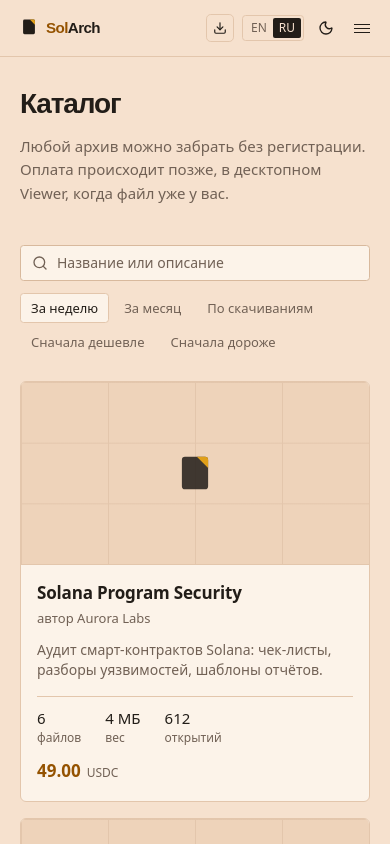
Test: меню узкого экрана › называется по-русски вместе со всем остальным
Click the button named "Меню": (362, 28) 348,14 -> 376,42
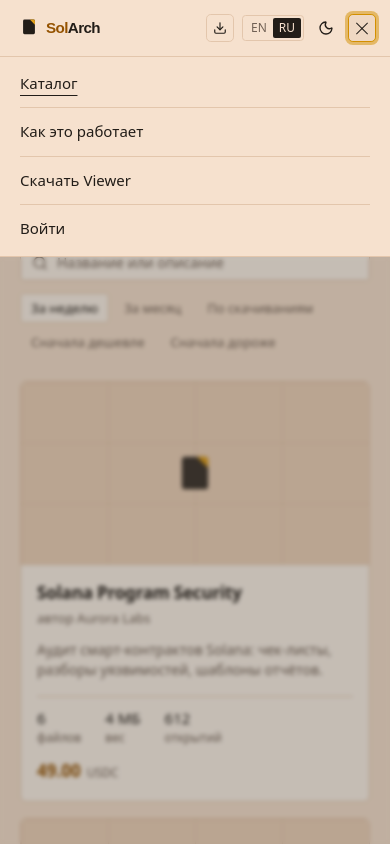
Expected: the link "Как это работает" is shown, 20,108 -> 370,157
